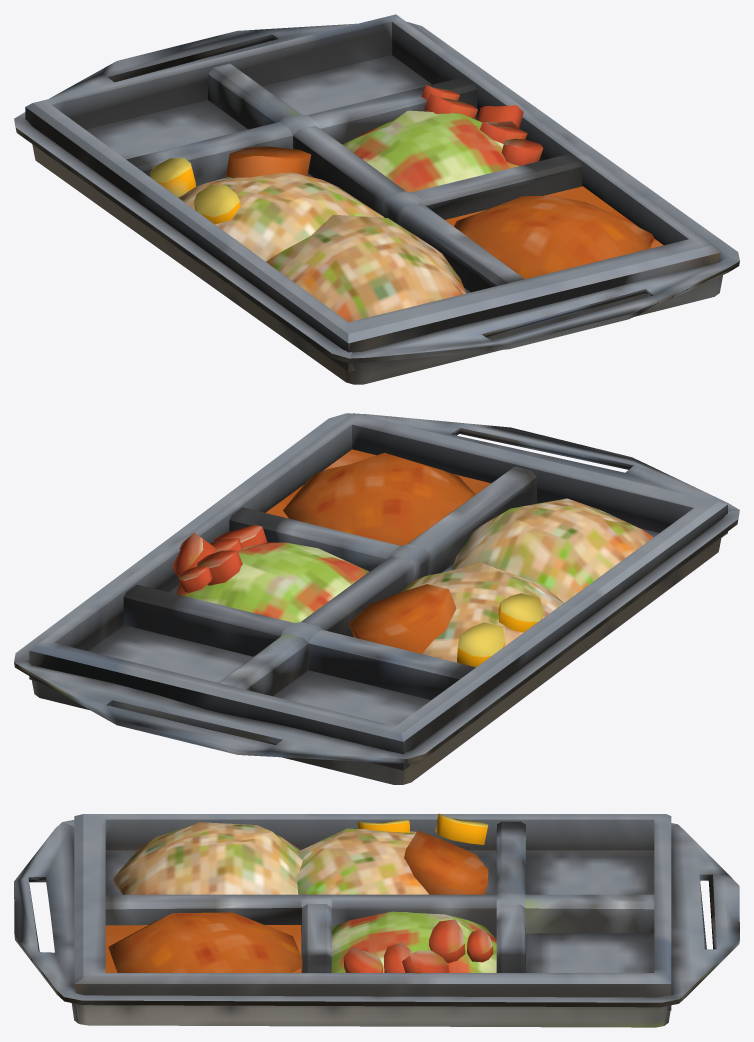
The model's file is MessTray_Food.fbx.
3 renders of one model, top to bottom at view 1: azimuth 30°, elevation 25°; view 2: azimuth 150°, elevation 25°; view 3: azimuth 270°, elevation 25°, orthographic. The views are drawn at different scales.
Visible parts, largest first — view 1: MessTray.001; view 2: MessTray.001; view 3: MessTray.001.
Boxes of the visible parts, bbox=[...] form: MessTray.001: bbox=[14, 14, 739, 384]; MessTray.001: bbox=[14, 413, 739, 784]; MessTray.001: bbox=[14, 813, 739, 1027].
Bounding box in the file's own units: 58.47 × 10.47 × 97.26.
